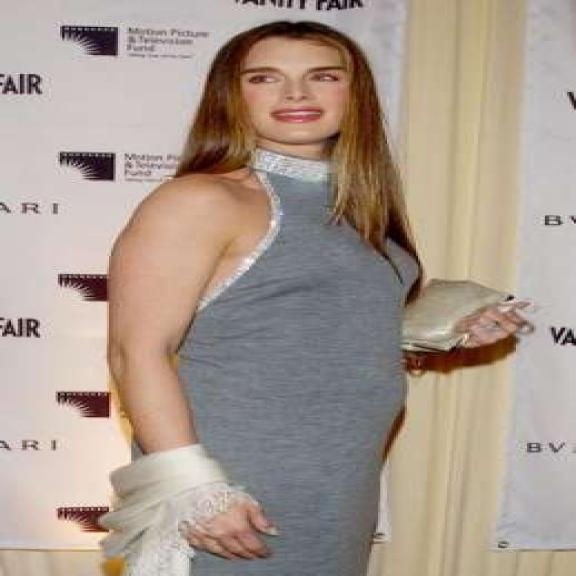face: (236, 33, 364, 150)
